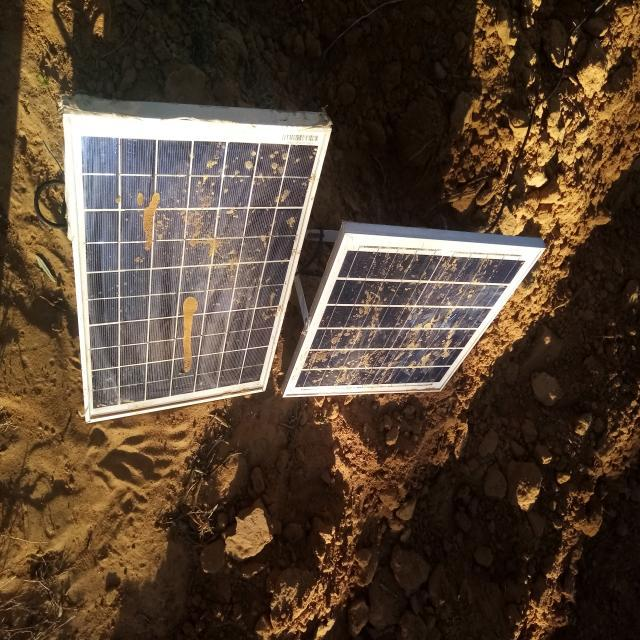faulty: (68, 113, 328, 422)
